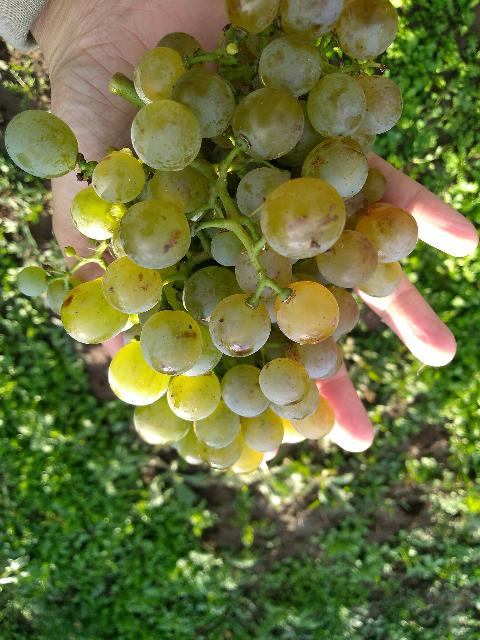Grapes: (64, 1, 400, 471), (5, 110, 82, 178)
